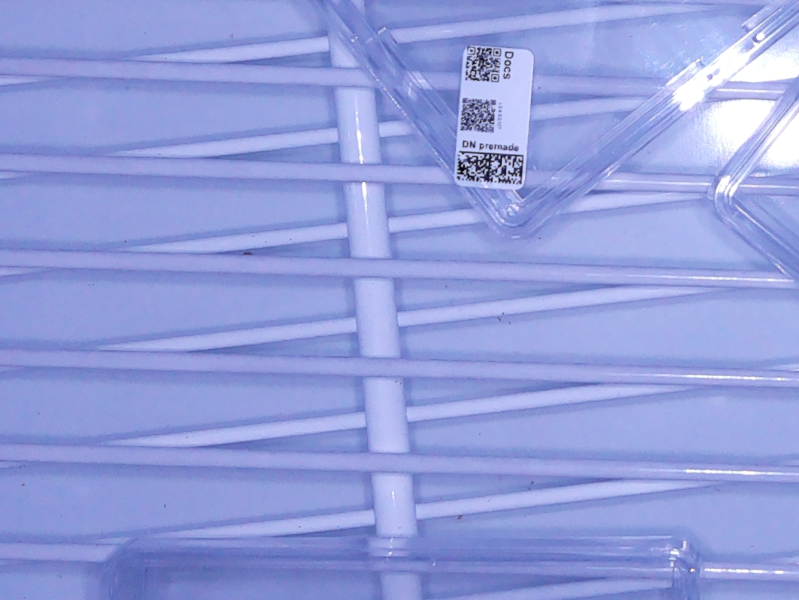plate: (310, 1, 799, 241), (104, 530, 703, 600), (707, 75, 799, 281)
